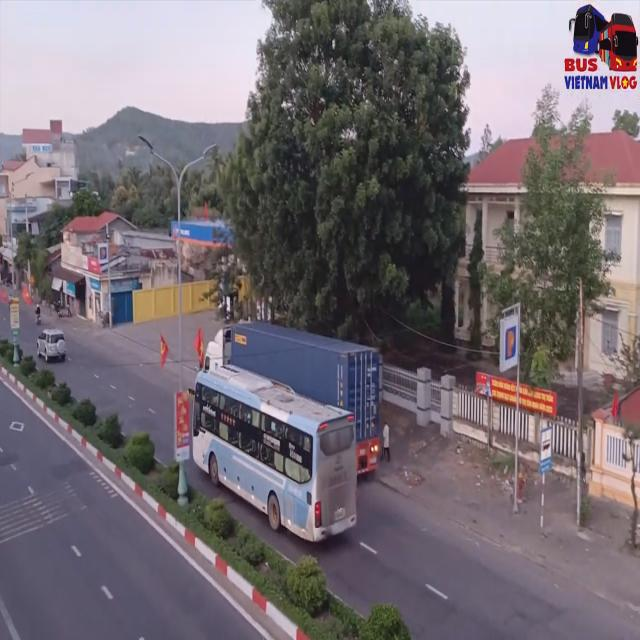bus: (191, 372, 360, 539)
car: (38, 325, 66, 365)
